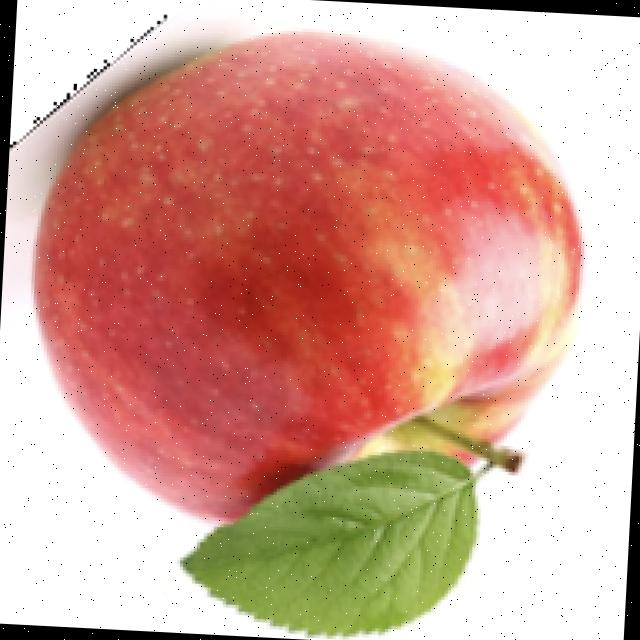apple: (10, 14, 590, 640)
